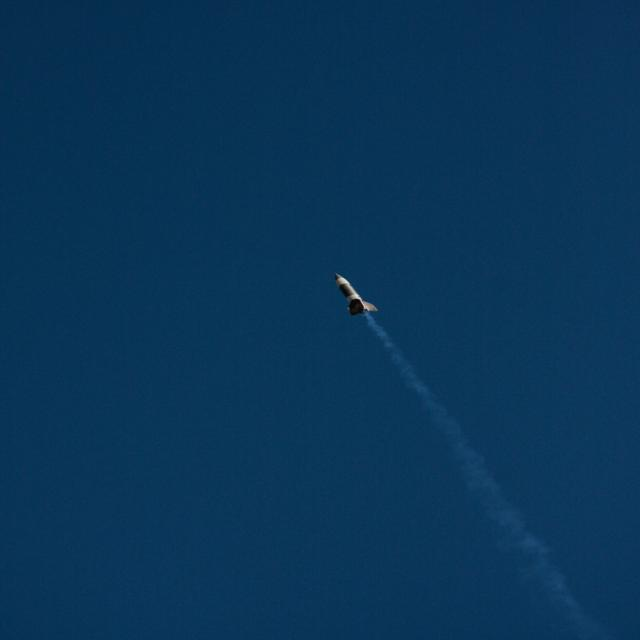Rocket: (332, 272, 378, 318)
